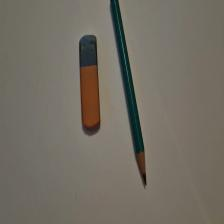eraser: (80, 35, 102, 131)
pencil: (111, 1, 148, 186)
